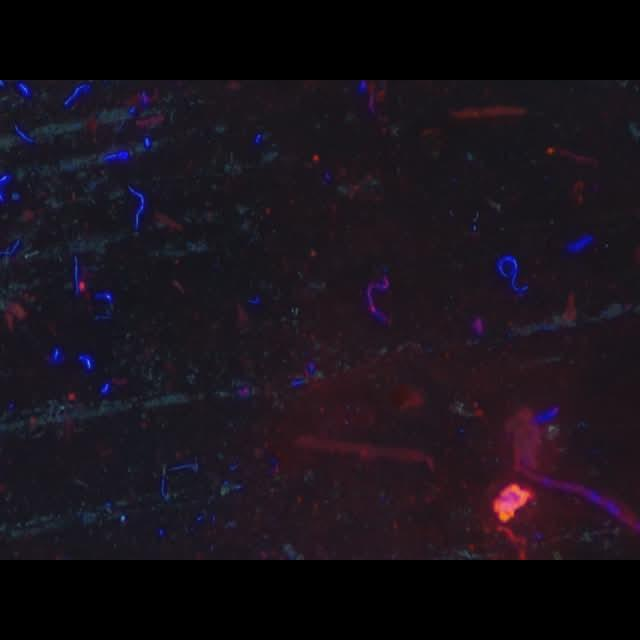Fragment: (493, 483, 532, 522)
